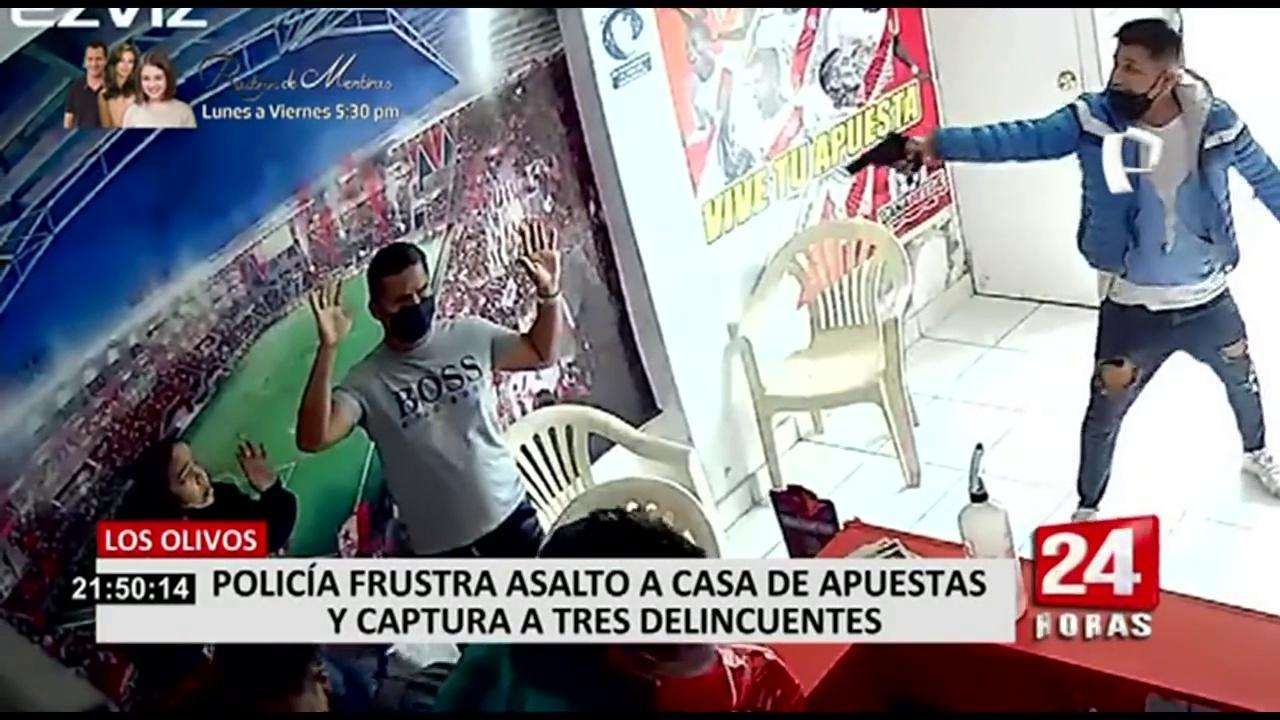Guns: (830, 119, 926, 203)
